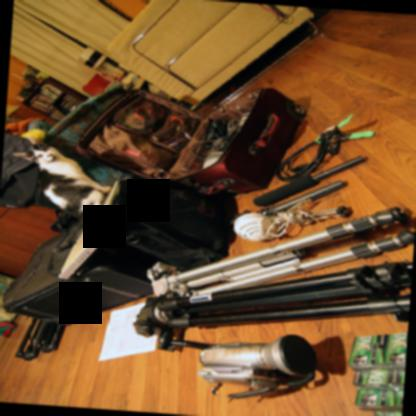suitcase: (78, 85, 304, 196), (2, 221, 164, 324), (100, 174, 236, 269)
